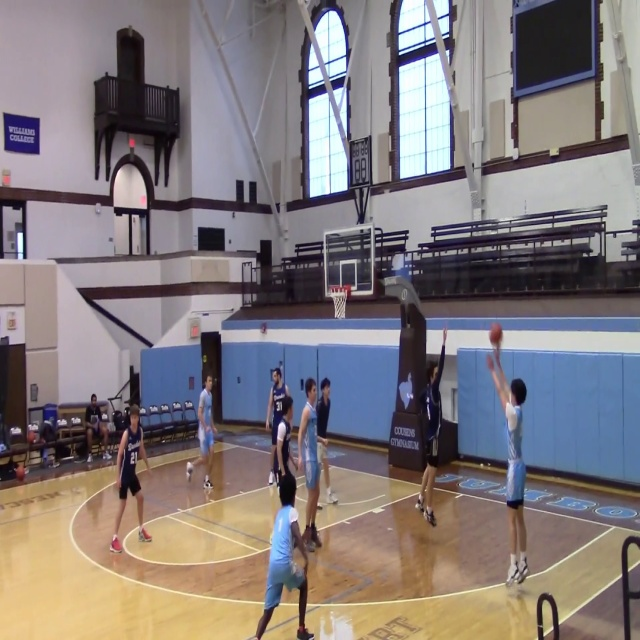Basketball: (489, 323, 502, 344), (27, 423, 39, 443), (15, 466, 25, 481)
